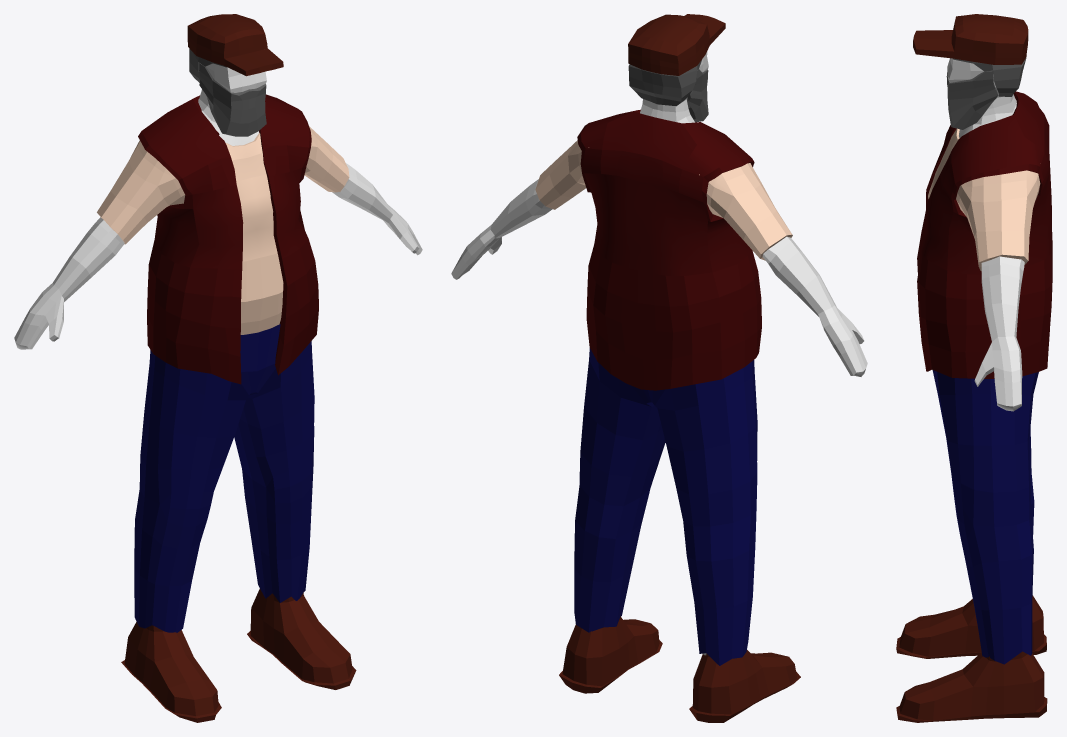
Rendered from OldmanGame.fbx.
3 renders of one model, left to right at view 1: azimuth 30°, elevation 25°; view 2: azimuth 150°, elevation 25°; view 3: azimuth 270°, elevation 25°, orthographic.
Visible parts, largest first — view 1: Calça, Jaqueta, BotasChapeu, Camiseta, Body, CabeloBarba; view 2: Jaqueta, Calça, BotasChapeu, Body, Camiseta, CabeloBarba; view 3: Jaqueta, Calça, BotasChapeu, Body, Camiseta, CabeloBarba.
Part boxes in pixels (bbox=[...]): Calça: bbox=[134, 324, 314, 632]; Jaqueta: bbox=[138, 94, 318, 384]; BotasChapeu: bbox=[121, 14, 356, 722]; Camiseta: bbox=[97, 126, 349, 334]; Body: bbox=[14, 63, 422, 349]; CabeloBarba: bbox=[189, 48, 266, 136]; Jaqueta: bbox=[577, 109, 761, 390]; Calça: bbox=[574, 348, 757, 665]; BotasChapeu: bbox=[559, 14, 800, 722]; Body: bbox=[451, 51, 867, 655]; Camiseta: bbox=[535, 140, 792, 260]; CabeloBarba: bbox=[628, 60, 708, 122]; Jaqueta: bbox=[917, 91, 1052, 378]; Calça: bbox=[932, 370, 1038, 664]; BotasChapeu: bbox=[896, 14, 1047, 722]; Body: bbox=[947, 58, 1024, 411]; Camiseta: bbox=[928, 128, 1040, 270]; CabeloBarba: bbox=[946, 56, 1026, 129].
Size of the model in its own units: 22.36 by 7.39 by 34.57.
